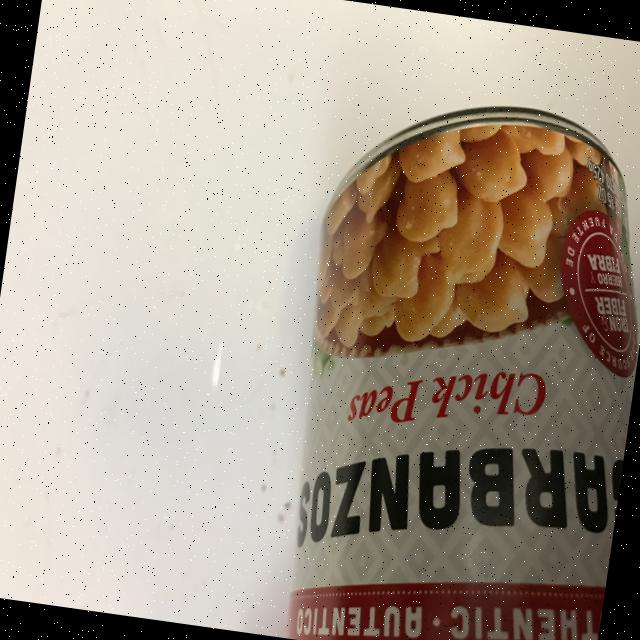metal: (264, 82, 640, 640)
